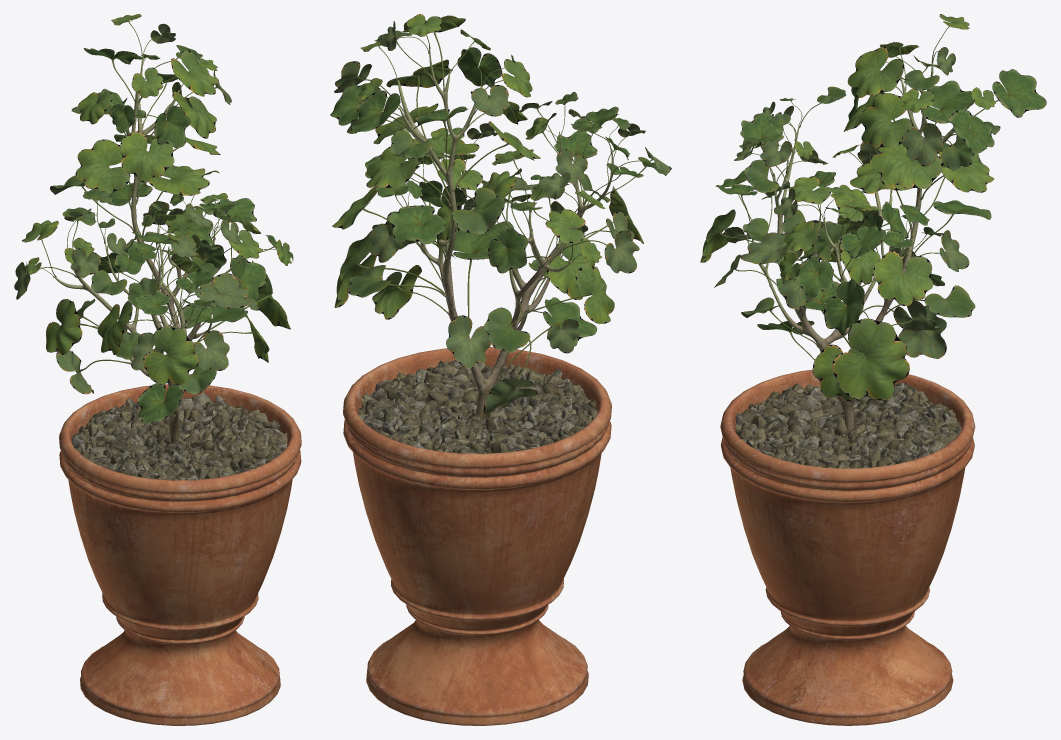
The model's file is potted_plant.glb.
3 views of the same model, side by side, from view 1: azimuth 30°, elevation 25°; view 2: azimuth 150°, elevation 25°; view 3: azimuth 270°, elevation 25° (orthographic). The views are drawn at different scales.
Parts seen in each view (by area): view 1: potted_plant_01_pot, potted_plant_01_leaves, potted_plant_01_pebbles, potted_plant_01_stem; view 2: potted_plant_01_pot, potted_plant_01_leaves, potted_plant_01_pebbles, potted_plant_01_stem; view 3: potted_plant_01_pot, potted_plant_01_leaves, potted_plant_01_pebbles, potted_plant_01_stem.
Part boxes in pixels (x1,y1,x2,y2): potted_plant_01_pot: (59, 384, 301, 725); potted_plant_01_leaves: (14, 14, 293, 423); potted_plant_01_pebbles: (71, 392, 287, 480); potted_plant_01_stem: (53, 54, 244, 443); potted_plant_01_pot: (343, 347, 611, 725); potted_plant_01_leaves: (330, 14, 671, 414); potted_plant_01_pebbles: (358, 360, 597, 453); potted_plant_01_stem: (397, 49, 612, 420); potted_plant_01_pot: (720, 369, 975, 725); potted_plant_01_leaves: (700, 14, 1046, 401); potted_plant_01_pebbles: (735, 382, 961, 468); potted_plant_01_stem: (751, 55, 966, 431).
Size of the model in its own units: 0.5874 by 1.34 by 0.6336.
2 materials, 2 textured.
